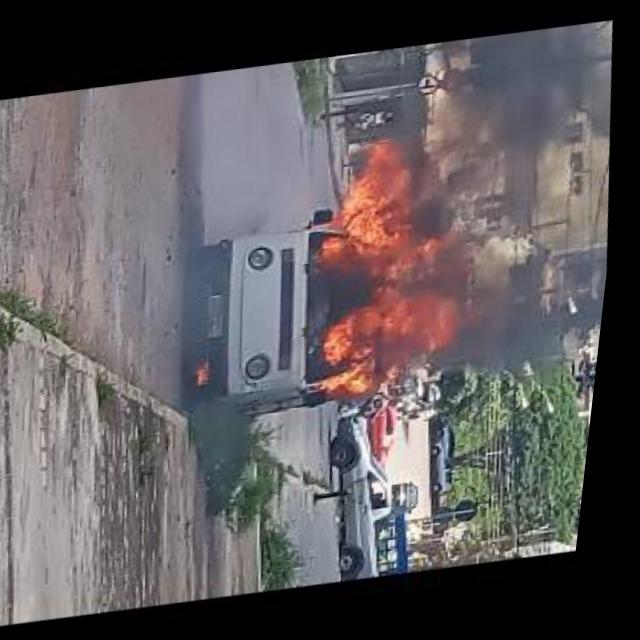Fire: (363, 24, 629, 244), (322, 136, 476, 292), (437, 262, 615, 396), (319, 283, 468, 405), (203, 363, 223, 384)
